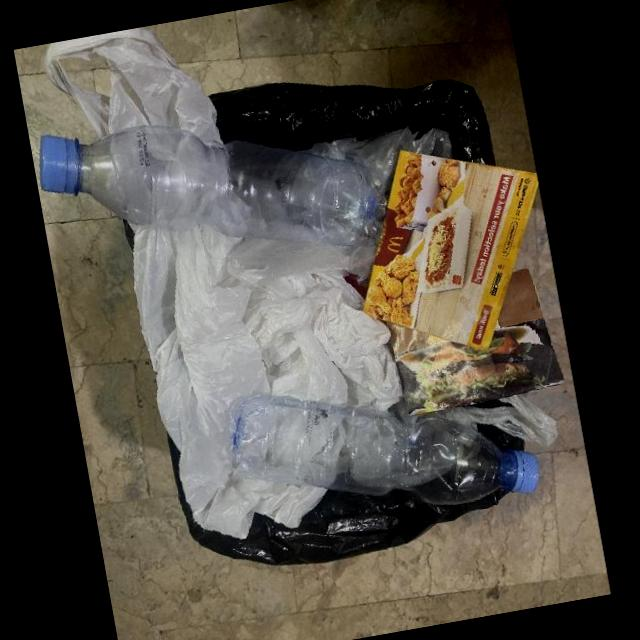chai_nhua_pet: (39, 125, 386, 245), (229, 393, 540, 505)
giay: (359, 148, 538, 350), (381, 267, 565, 415)
tui_ni_long: (44, 27, 459, 538)
